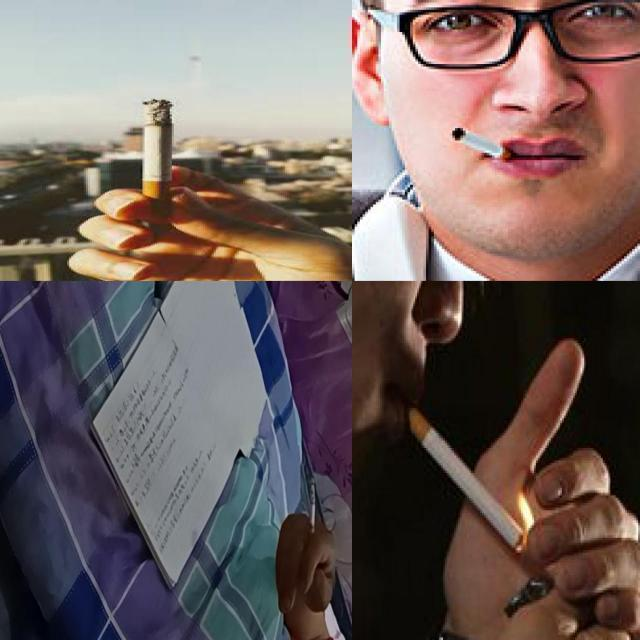rokok: (402, 398, 526, 550), (142, 98, 174, 218), (450, 125, 516, 163), (310, 478, 316, 542)
